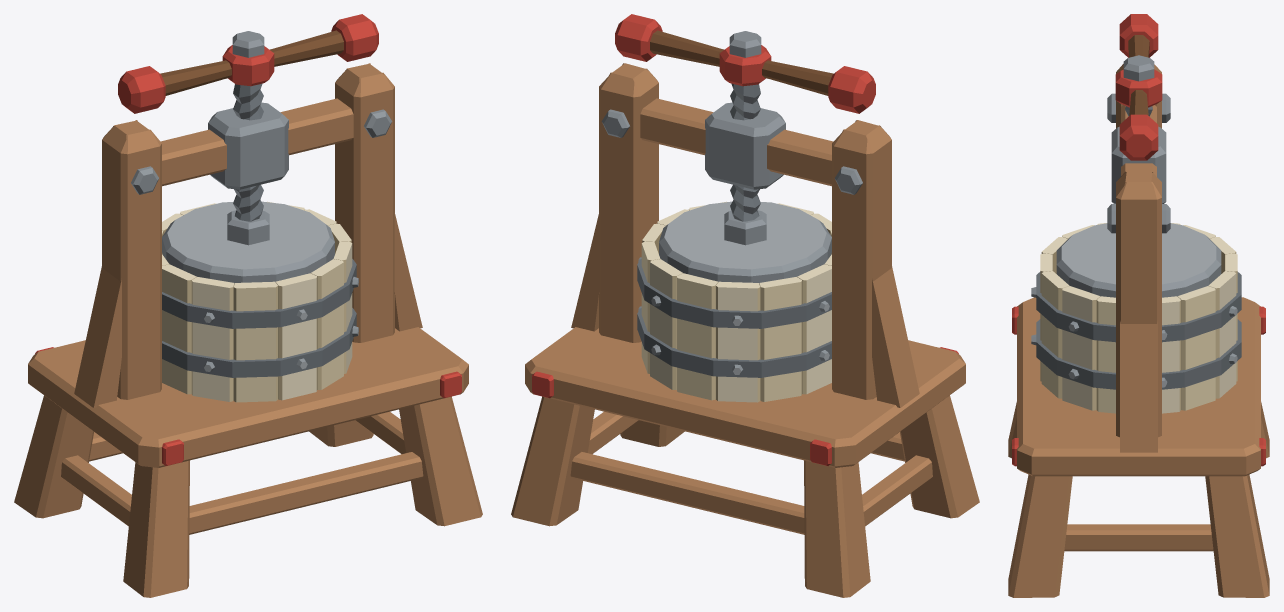
File: FMS_Workshop_STA_02.fbx
3 renders of one model, left to right at view 1: azimuth 30°, elevation 25°; view 2: azimuth 150°, elevation 25°; view 3: azimuth 270°, elevation 25°, orthographic. The views are drawn at different scales.
Visible parts, largest first — view 1: FMS_Workshop_STA_02_Frame, FMS_Workshop_STA_02_Mould, FMS_Workshop_STA_02_Plate, FMS_Workshop_STA_02_Screw; view 2: FMS_Workshop_STA_02_Frame, FMS_Workshop_STA_02_Mould, FMS_Workshop_STA_02_Plate, FMS_Workshop_STA_02_Screw; view 3: FMS_Workshop_STA_02_Frame, FMS_Workshop_STA_02_Mould, FMS_Workshop_STA_02_Plate, FMS_Workshop_STA_02_Screw.
Part boxes in pixels (x1,y1,x2,y2): FMS_Workshop_STA_02_Frame: [14, 63, 482, 597]; FMS_Workshop_STA_02_Mould: [162, 201, 358, 402]; FMS_Workshop_STA_02_Plate: [162, 201, 334, 283]; FMS_Workshop_STA_02_Screw: [118, 14, 378, 221]; FMS_Workshop_STA_02_Frame: [511, 63, 979, 597]; FMS_Workshop_STA_02_Mould: [637, 201, 831, 402]; FMS_Workshop_STA_02_Plate: [659, 201, 831, 283]; FMS_Workshop_STA_02_Screw: [615, 14, 875, 221]; FMS_Workshop_STA_02_Frame: [1008, 64, 1269, 597]; FMS_Workshop_STA_02_Mould: [1031, 223, 1241, 413]; FMS_Workshop_STA_02_Plate: [1056, 223, 1221, 297]; FMS_Workshop_STA_02_Screw: [1115, 14, 1162, 160].
Bounding box in the file's own units: 0.9033 × 1.2 × 0.6213.
1 material, 1 textured.
